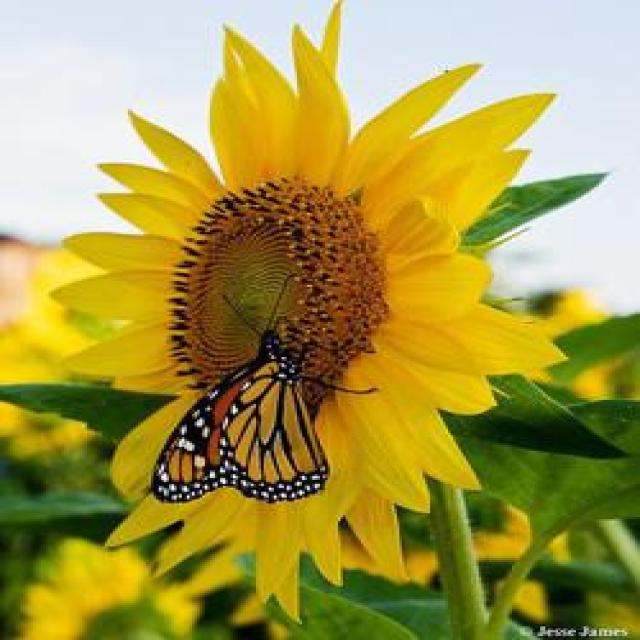sunflower: (45, 0, 562, 630)
